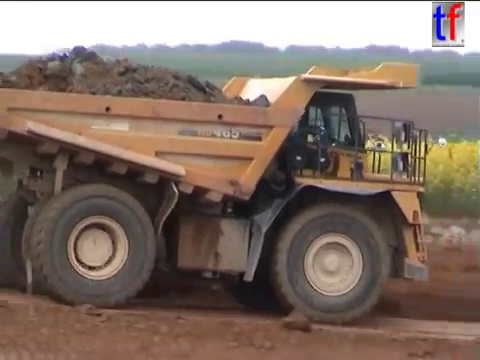truck: (1, 58, 450, 328)
